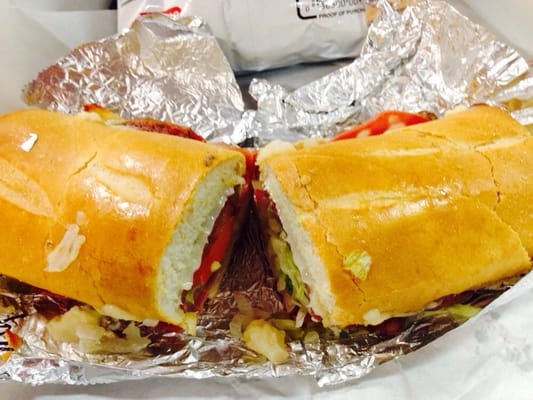soup: (232, 105, 533, 377), (1, 104, 259, 374)
